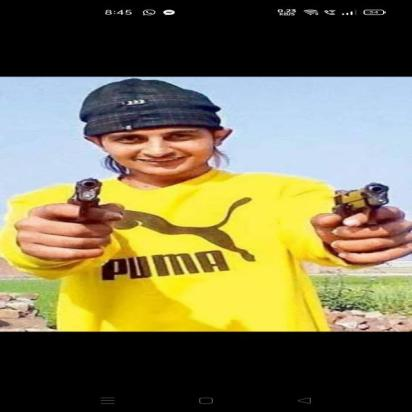Gun: (40, 176, 119, 262), (321, 181, 395, 268)
